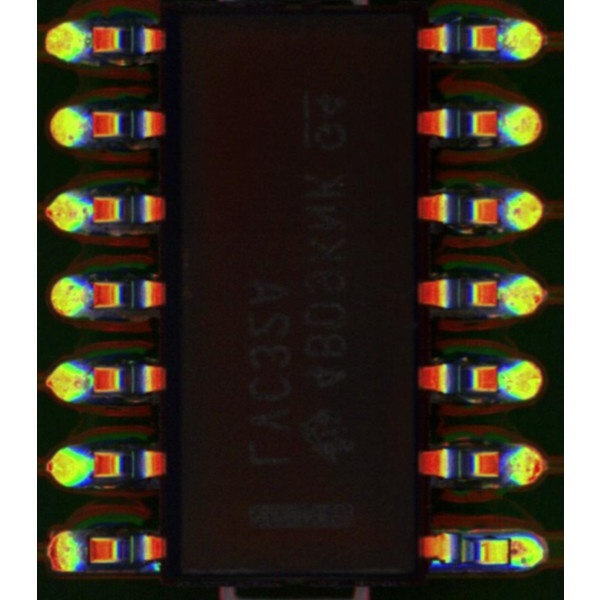Bad_podu: (497, 541, 529, 561)
